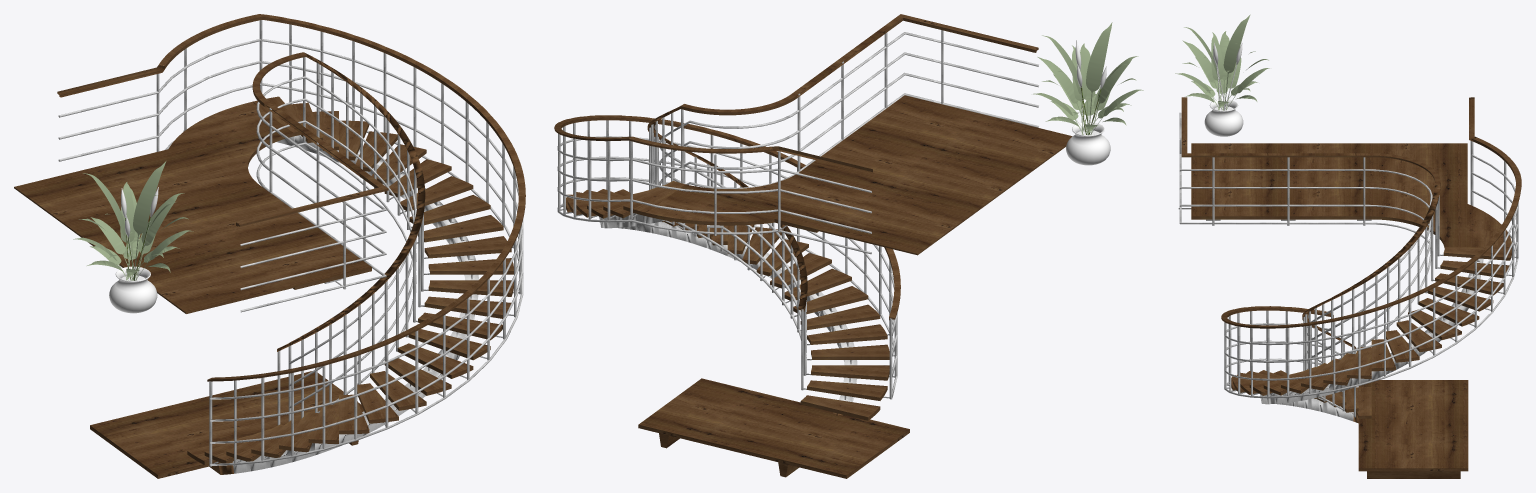
The model's file is Stairs.gltf.
3 views of the same model, side by side, from view 1: azimuth 30°, elevation 25°; view 2: azimuth 150°, elevation 25°; view 3: azimuth 270°, elevation 25° (orthographic). The views are drawn at different scales.
Visible parts, largest first — view 1: Material2.275, Material3.004, Material2.279, Material3.002, Material2.080; view 2: Material2.275, Material3.004, Material3.002, Material2.279, Material2.080; view 3: Material2.275, Material3.004, Material3.002, Material2.279, Material2.080.
Boxes of the visible parts, x1=… form: Material2.275: x1=14, y1=14, x2=525, y2=478; Material3.004: x1=58, y1=20, x2=523, y2=466; Material2.279: x1=73, y1=161, x2=193, y2=313; Material3.002: x1=211, y1=20, x2=521, y2=473; Material2.080: x1=57, y1=14, x2=388, y2=226; Material2.275: x1=554, y1=95, x2=1072, y2=478; Material3.004: x1=557, y1=30, x2=1038, y2=399; Material3.002: x1=558, y1=109, x2=895, y2=402; Material2.279: x1=1033, y1=22, x2=1143, y2=165; Material2.080: x1=629, y1=14, x2=1038, y2=173; Material2.275: x1=1191, y1=143, x2=1521, y2=478; Material3.004: x1=1178, y1=112, x2=1518, y2=409; Material3.002: x1=1224, y1=195, x2=1518, y2=421; Material2.279: x1=1175, y1=14, x2=1269, y2=136; Material2.080: x1=1181, y1=97, x2=1521, y2=187.
Size of the model in its own units: 5.41 by 4.11 by 3.94.
